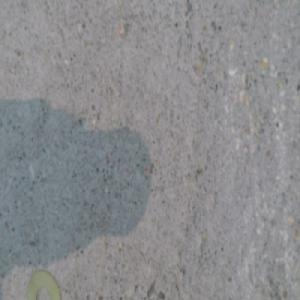Washer: (25, 270, 61, 299)
